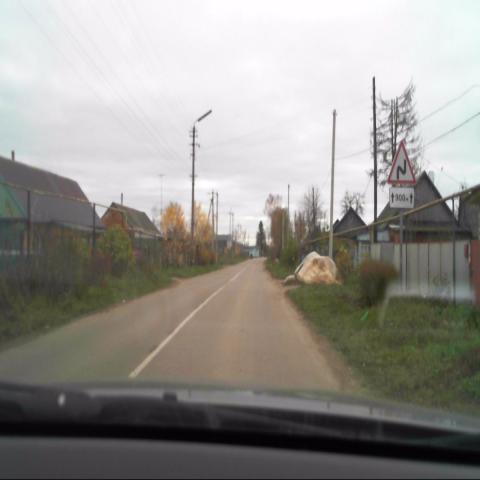1_12: (388, 141, 414, 184)
